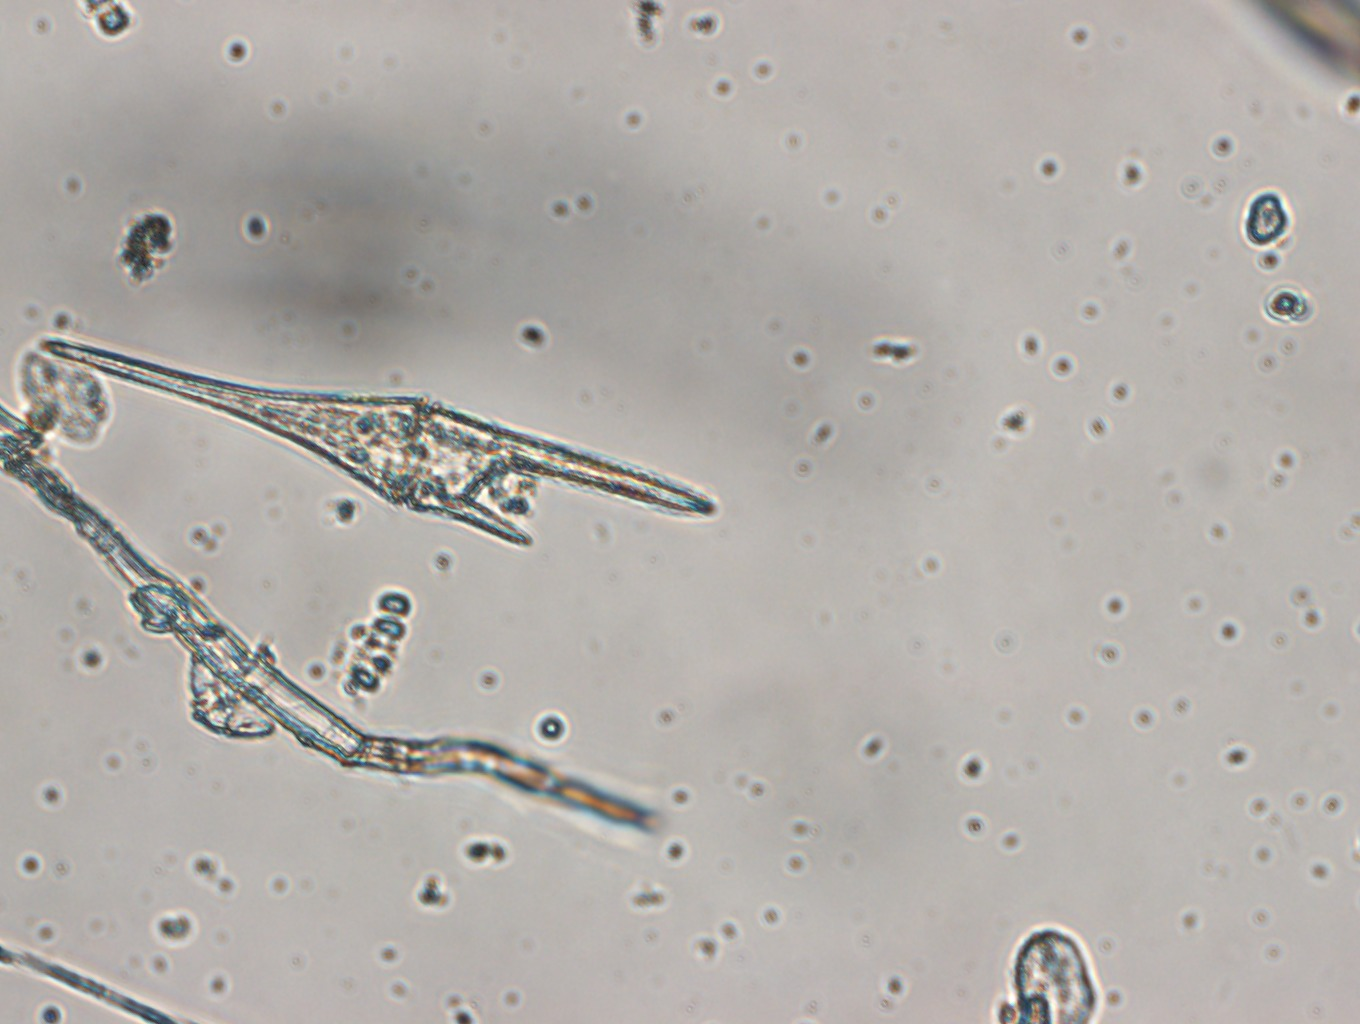ceratium furca: (39, 330, 728, 552)
